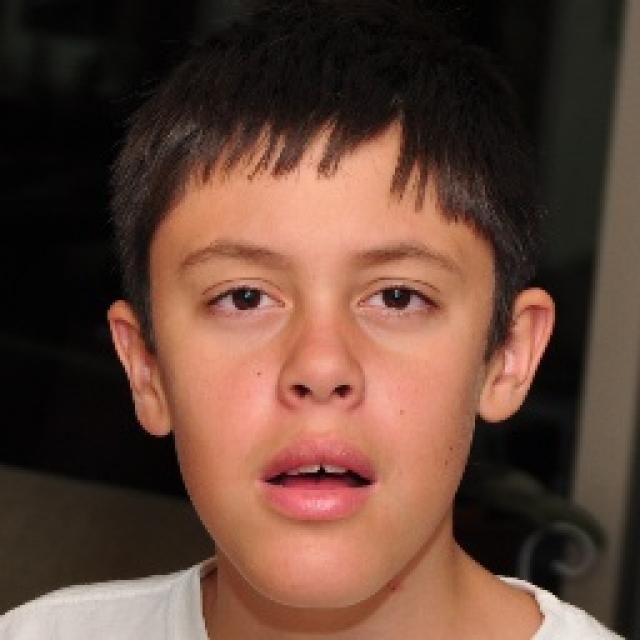earlobe: (479, 288, 555, 424), (107, 299, 173, 438)
